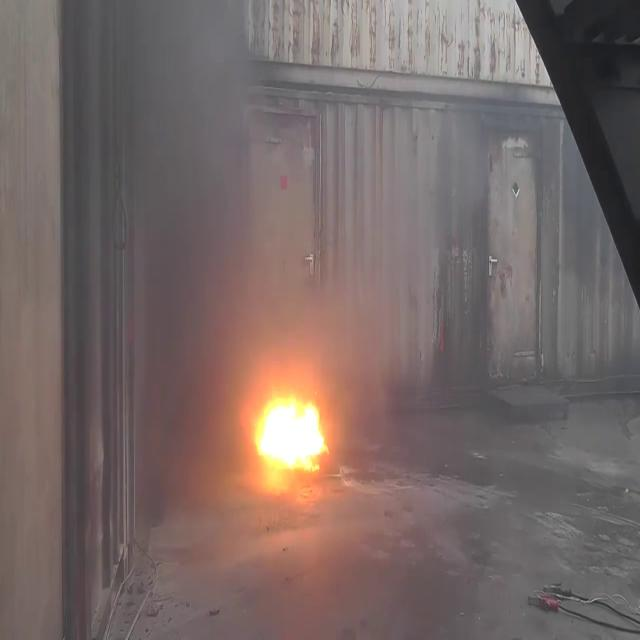Fire: (250, 374, 331, 484)
Smoke: (109, 0, 484, 423)
